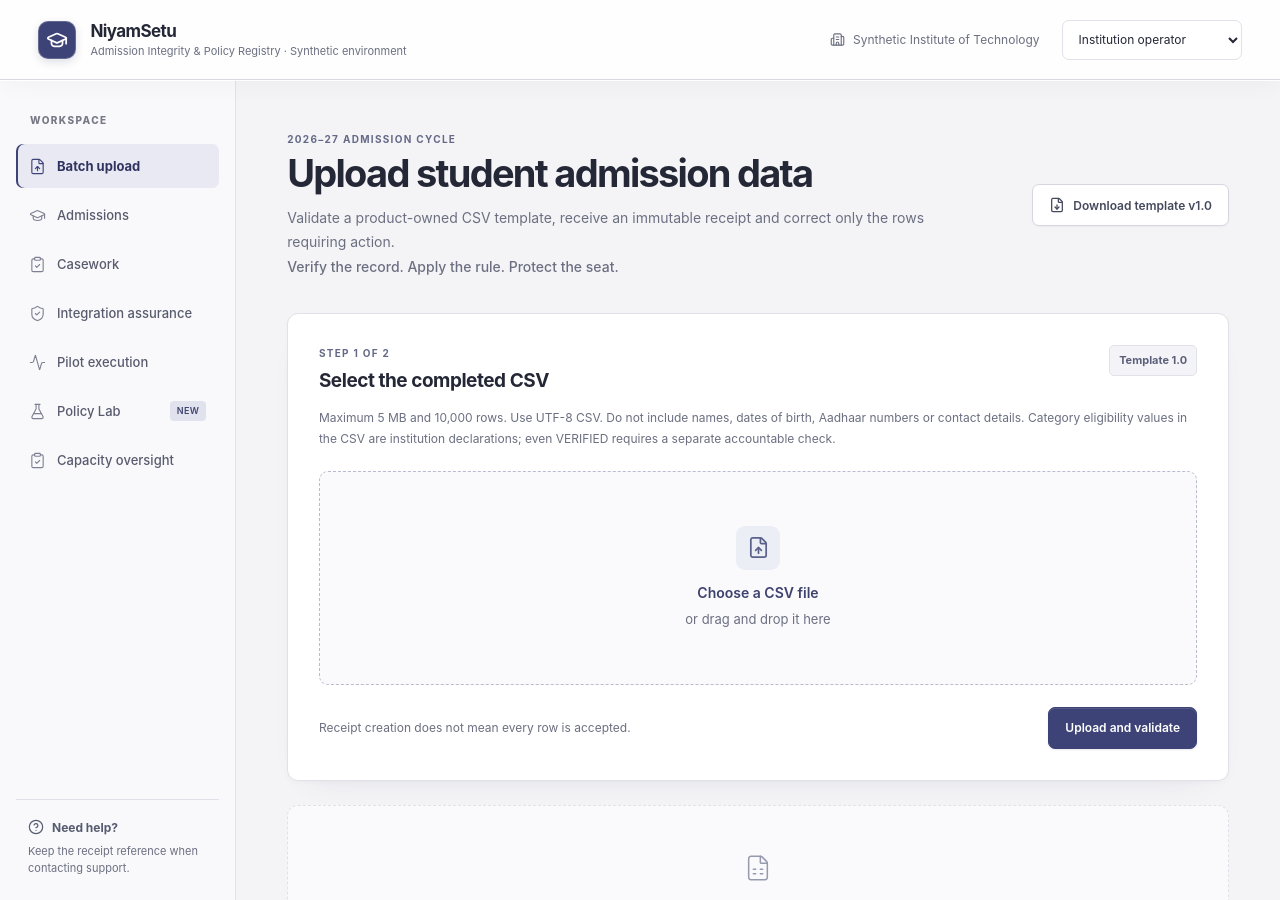
Test: institution batch workspace › exposes the policy digital twin only to regulator personas
Click the button "Policy Lab New": (118, 411) [16,389,219,433]
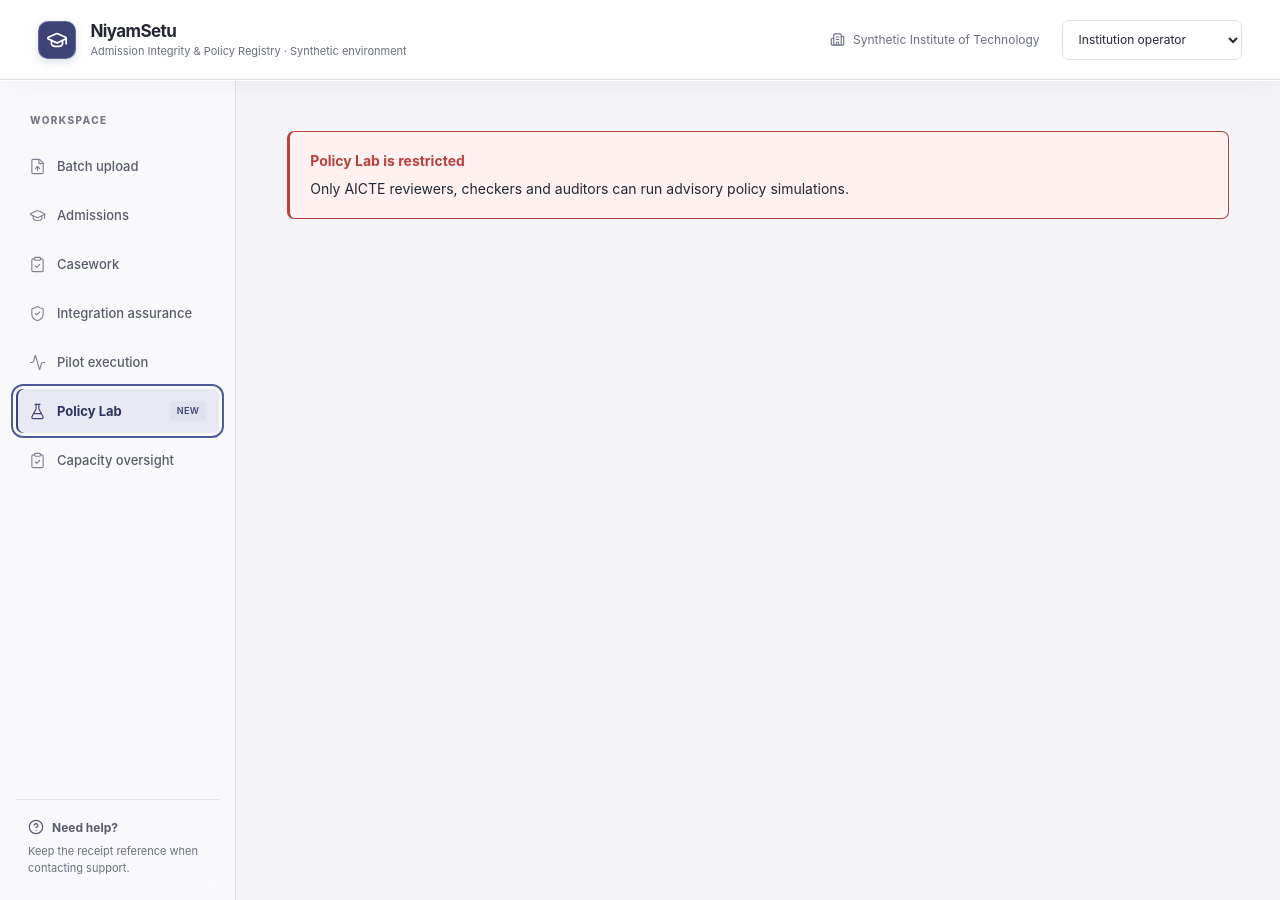
Check: the message shows "Policy Lab is restricted", box [310,152,465,169]
Select "AICTE reviewer" in the dropdown named "Preview role": (1152, 40) [1062,20,1242,60]
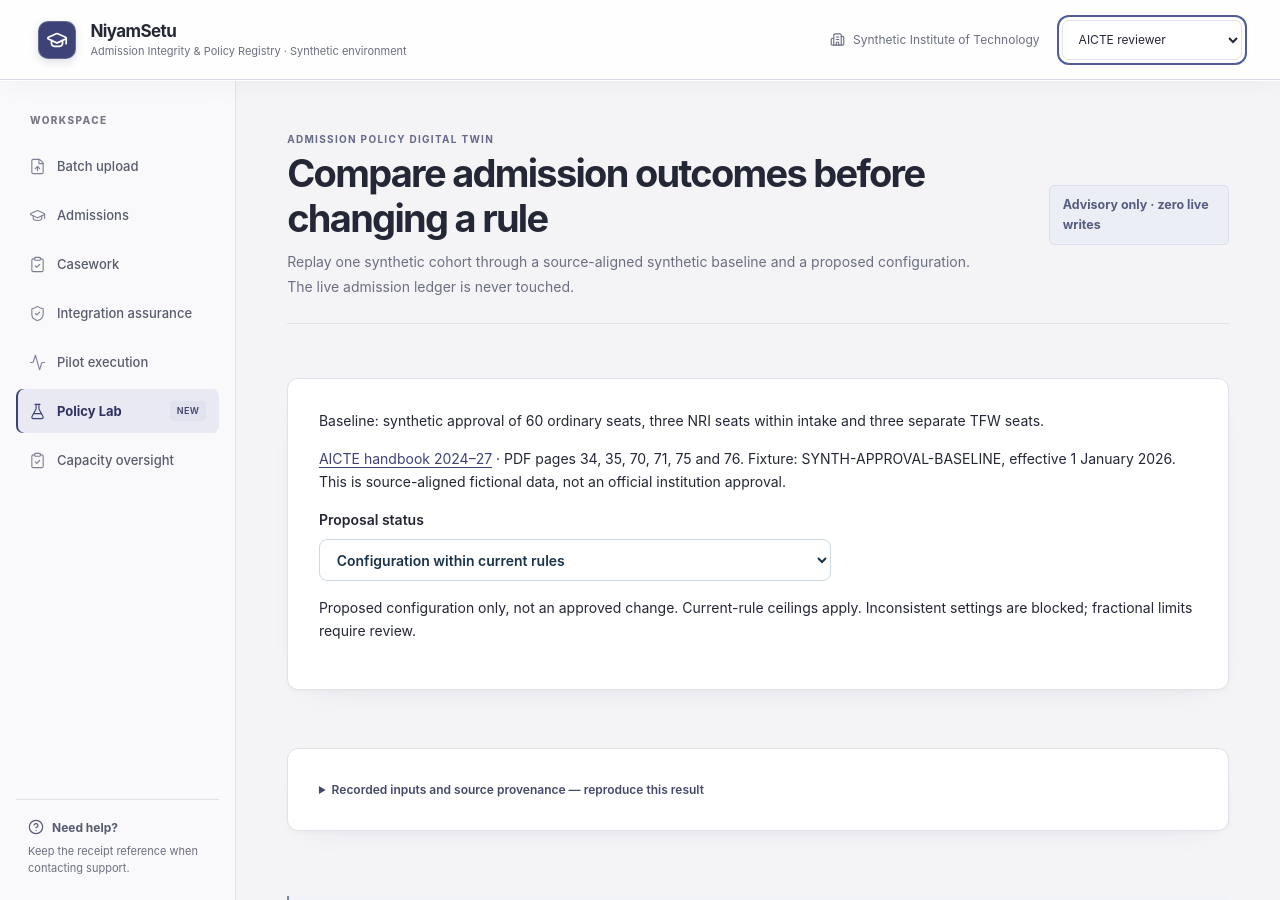
Check: the heading "Compare admission outcomes before changing a rule" is shown, box [287,151,1025,240]
